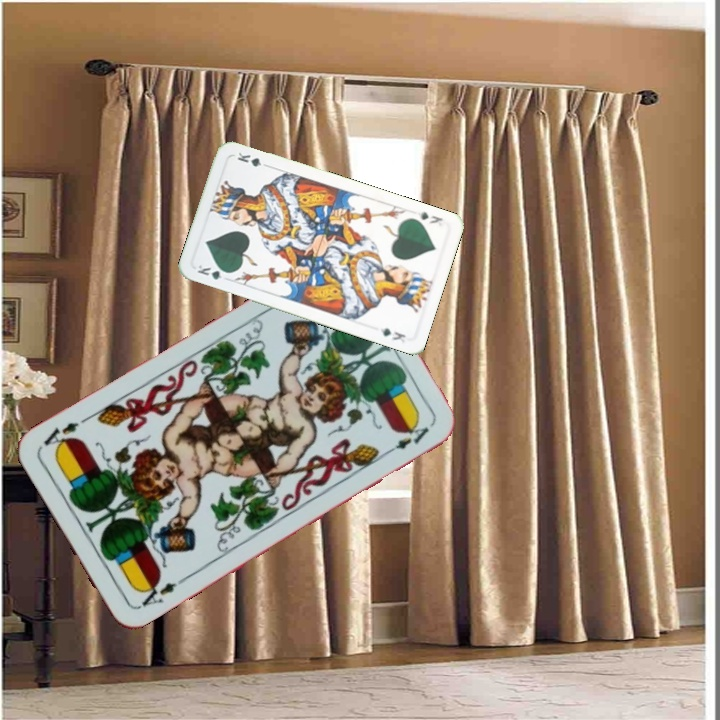EA: (134, 574, 187, 611)
GK: (193, 261, 233, 282), (414, 208, 445, 229)
